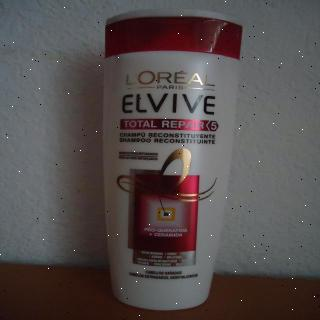Plastic-bottle: (96, 6, 248, 314)
